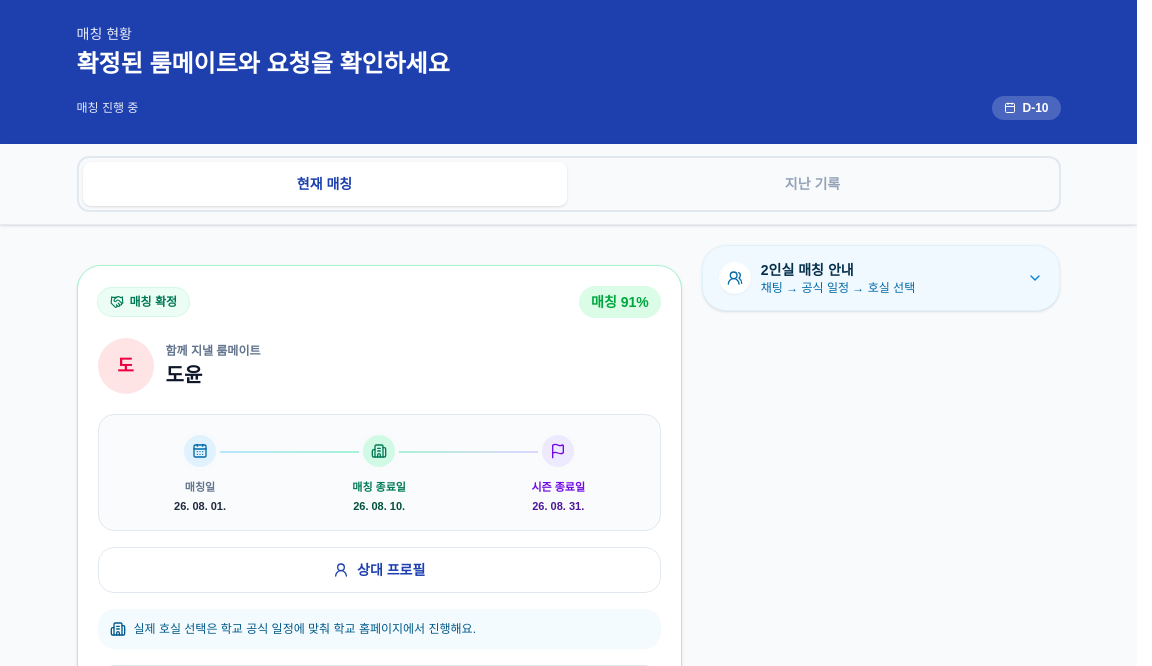
it: MatchingTab canonical runtime › active result-read의 retryable 오류는 public copy와 같은 관계 맥락의 재시도를 유지한다
This screenshot has width=1152, height=666.
Click the button named "도윤 프로필 상세 보기" at x=379, y=570, box left=98, top=546, right=661, bottom=592
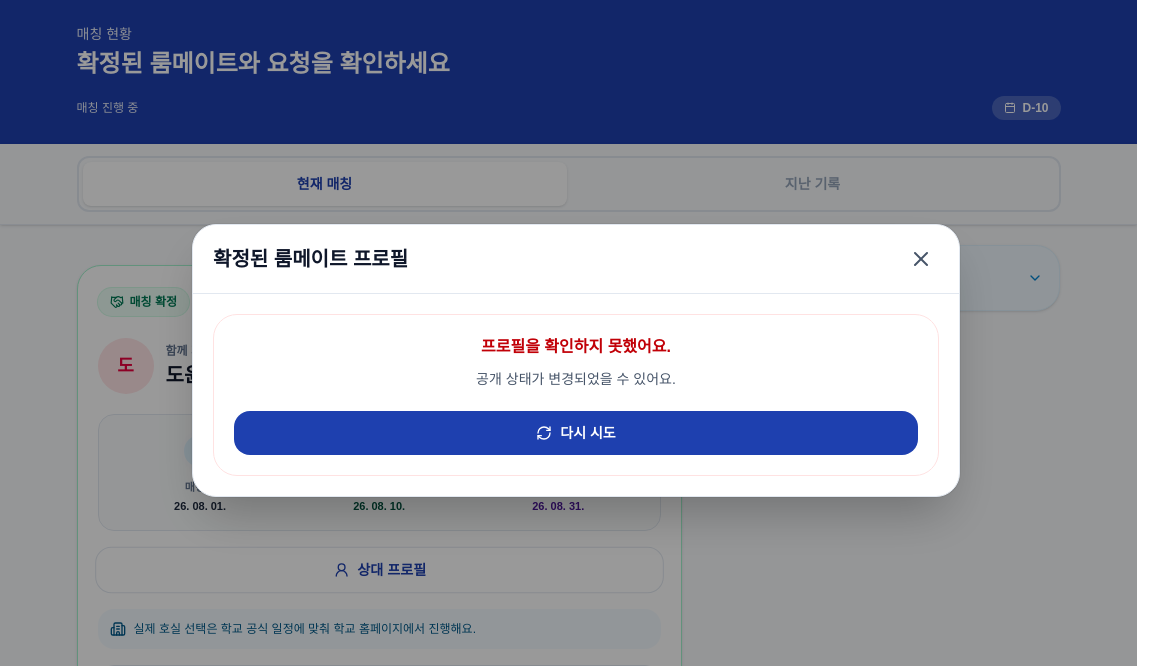
Now the message shows "프로필을 확인하지 못했어요", box left=481, top=338, right=671, bottom=354
Click the button "다시 시도" at x=576, y=432, box left=234, top=410, right=918, bottom=454
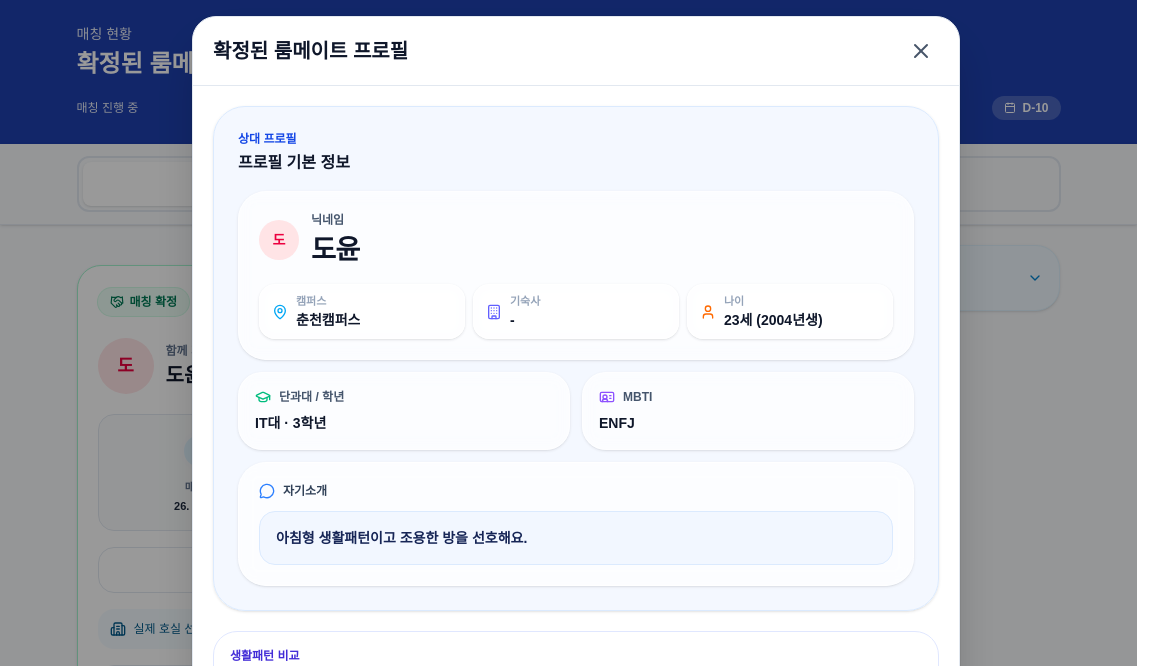
Now the heading "도윤" is shown, box left=311, top=234, right=360, bottom=265
